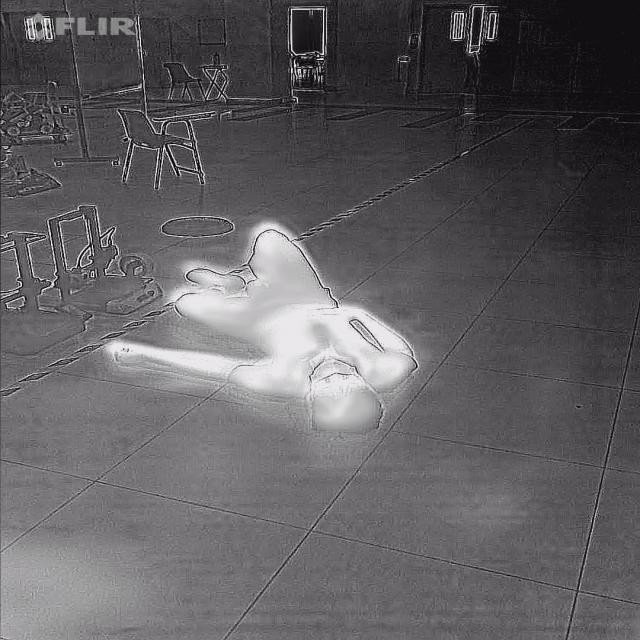Victim: (98, 215, 426, 438)
